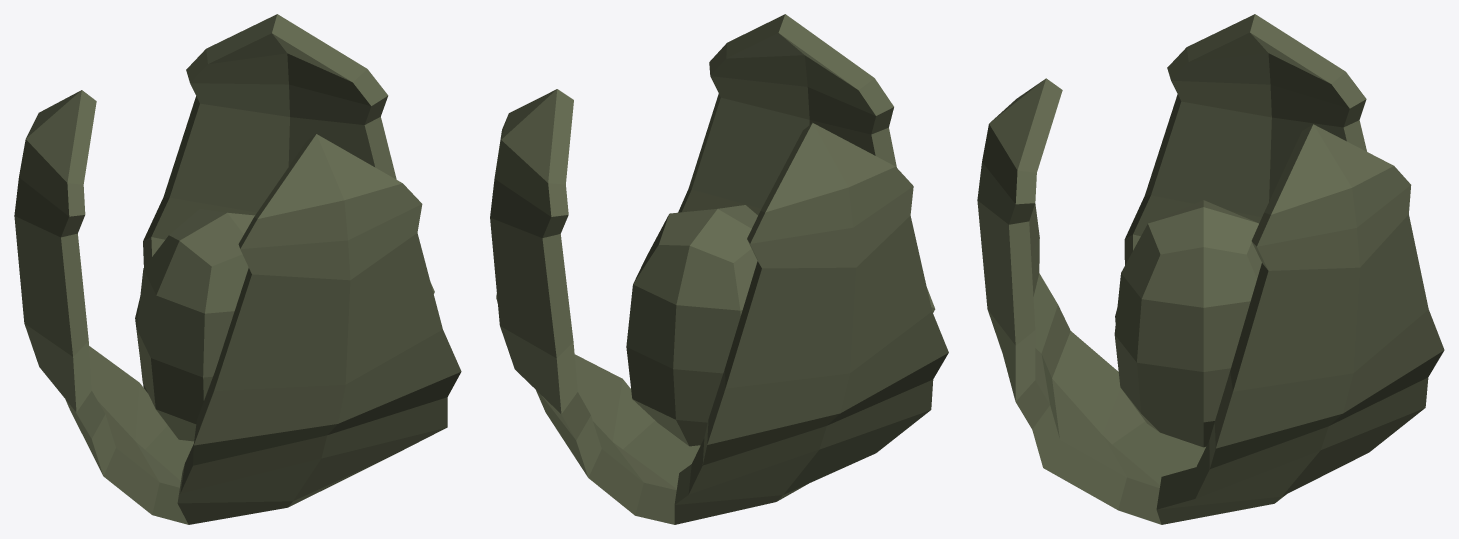
File: Lettuce_2.glb
The picture shows the model from 3 angles, left to right: view 1: azimuth 30°, elevation 25°; view 2: azimuth 150°, elevation 25°; view 3: azimuth 270°, elevation 25°; orthographic projection.
Visible parts, largest first — view 1: Lettuce_2; view 2: Lettuce_2; view 3: Lettuce_2.
Boxes of the visible parts, x1,y1,x2,y2 form: Lettuce_2: (14,14,461,524); Lettuce_2: (490,14,948,524); Lettuce_2: (977,14,1444,524).
Size of the model in its own units: 0.3689 by 0.354 by 0.3673.
